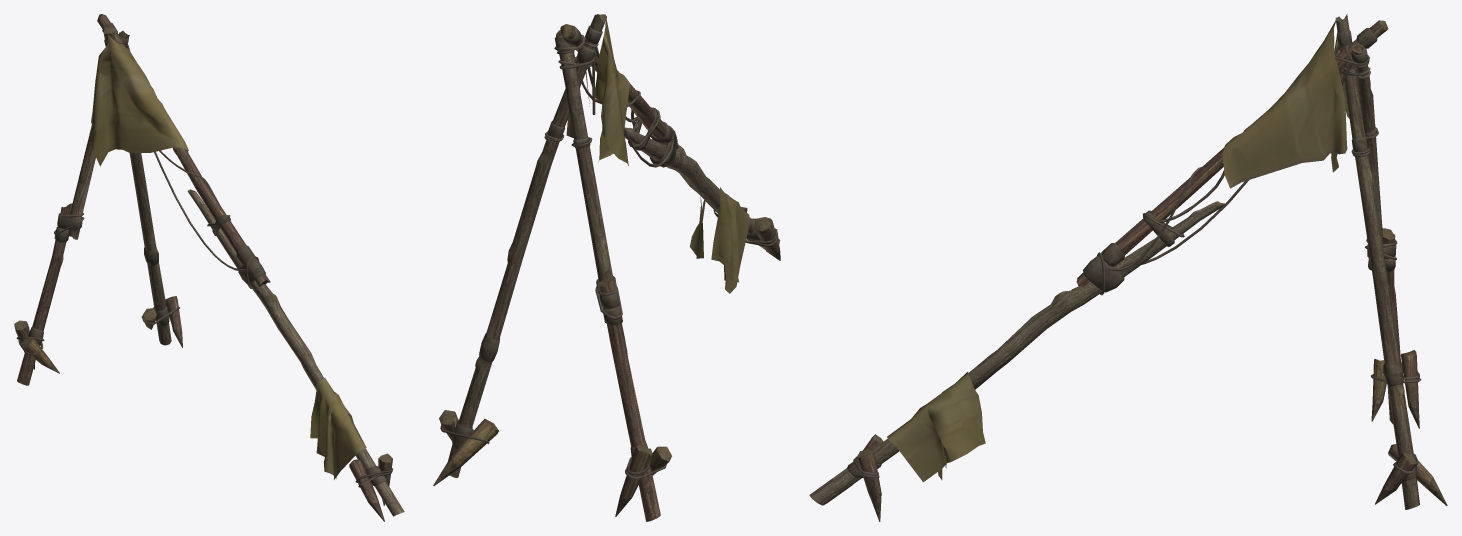
The model's file is GEN_PRO_DockPillar_03A_LOD0-transformed.glb.
3 renders of one model, left to right at view 1: azimuth 30°, elevation 25°; view 2: azimuth 150°, elevation 25°; view 3: azimuth 270°, elevation 25°, orthographic. The views are drawn at different scales.
Parts seen in each view (by area): view 1: default; view 2: default; view 3: default.
Part boxes in pixels (left/top/right/bottom): default: left=14, top=14, right=404, bottom=521; default: left=433, top=14, right=780, bottom=521; default: left=809, top=14, right=1447, bottom=521.
Size of the model in its own units: 3.18 by 6.67 by 8.52.
2 materials, 2 textured.
